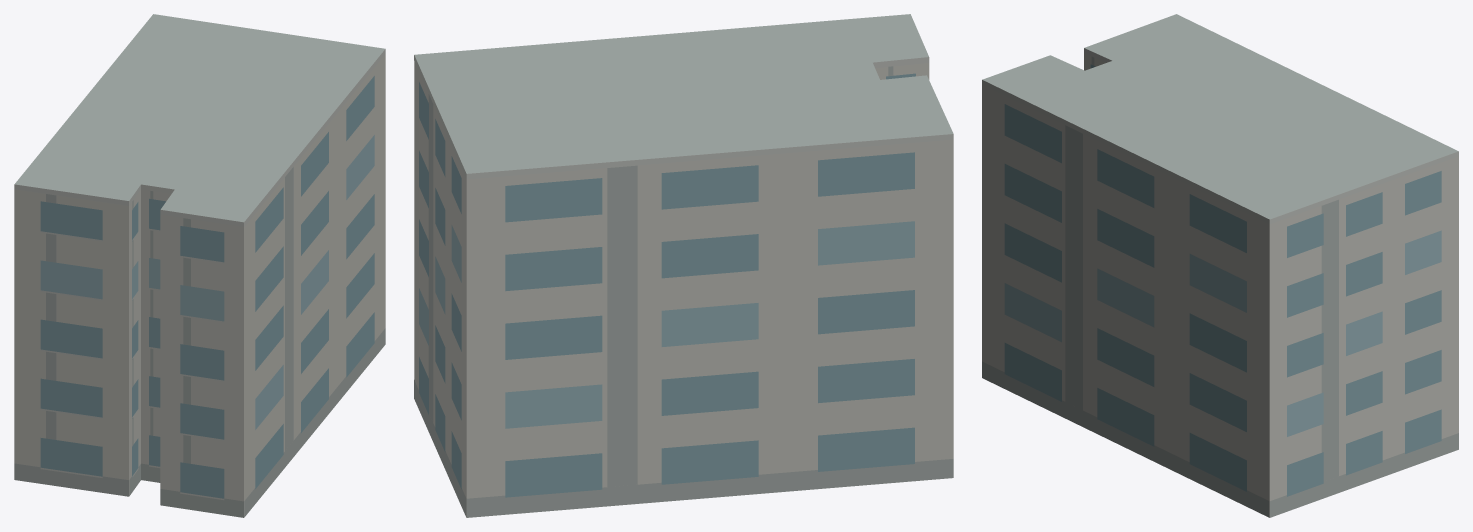
Rendered from survey-upis-32677228.glb.
The picture shows the model from 3 angles, left to right: view 1: azimuth 30°, elevation 25°; view 2: azimuth 150°, elevation 25°; view 3: azimuth 270°, elevation 25°; orthographic projection. The views are drawn at different scales.
Visible parts, largest first — view 1: survey-upis-32677228.tmp; view 2: survey-upis-32677228.tmp; view 3: survey-upis-32677228.tmp.
Boxes of the visible parts, left/top/right/bottom form: survey-upis-32677228.tmp: left=14, top=14, right=385, bottom=517; survey-upis-32677228.tmp: left=414, top=14, right=953, bottom=517; survey-upis-32677228.tmp: left=982, top=14, right=1458, bottom=517.
Size of the model in its own units: 21.58 by 14.6 by 21.15.
